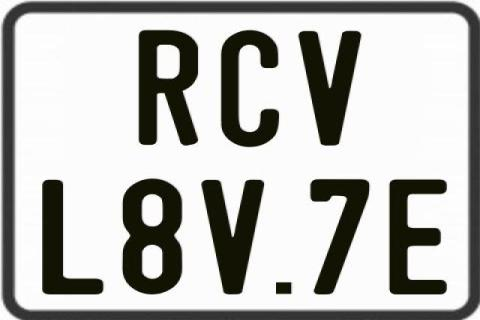0: (120, 178, 185, 294), (309, 178, 368, 296)
C: (221, 29, 279, 149)
E: (388, 179, 452, 296)
L: (41, 180, 103, 294)
R: (136, 28, 196, 145)
V: (202, 179, 269, 299), (298, 31, 362, 148)
